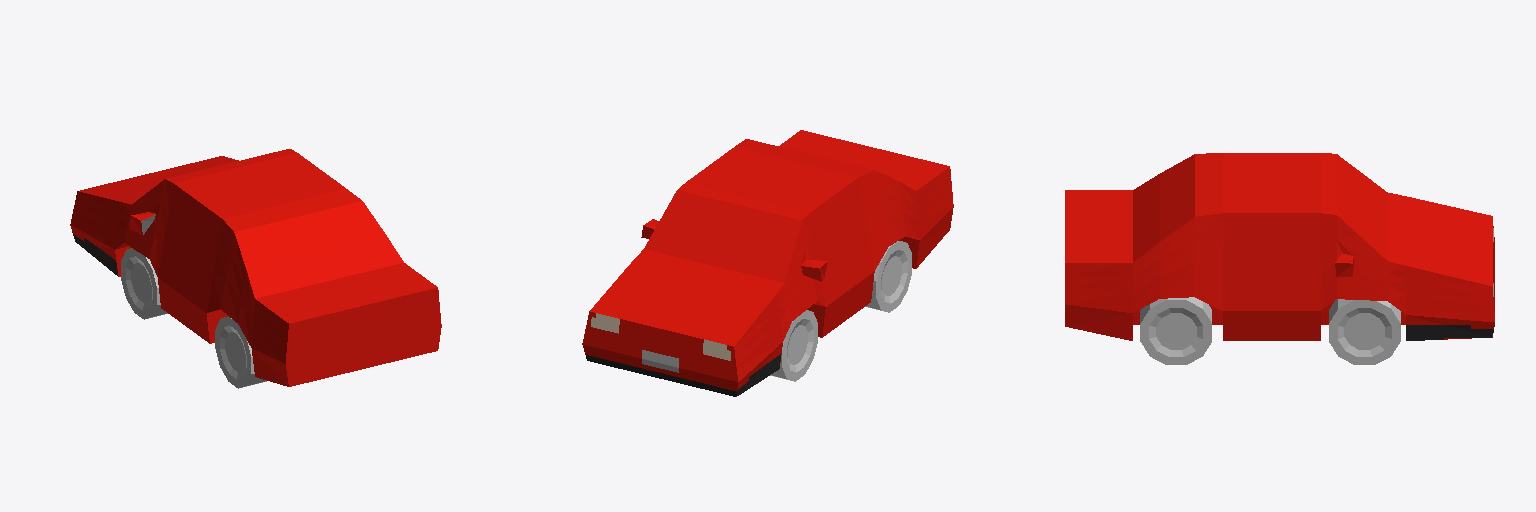
The picture shows the model from 3 angles: view 1: azimuth 30°, elevation 25°; view 2: azimuth 150°, elevation 25°; view 3: azimuth 270°, elevation 25°; orthographic projection.
Visible parts, largest first — view 1: cuboid, cylinder; view 2: cuboid, cylinder; view 3: cuboid, cylinder.
Boxes of the visible parts, x1,y1,x2,y2 form: cuboid: [70, 149, 441, 386]; cylinder: [121, 248, 266, 388]; cuboid: [582, 130, 953, 396]; cylinder: [770, 241, 911, 381]; cuboid: [1065, 153, 1494, 340]; cylinder: [1140, 297, 1400, 364].
Size of the model in its own units: 2.42 by 1.87 by 5.
Materials: 2 (1 with a texture image).